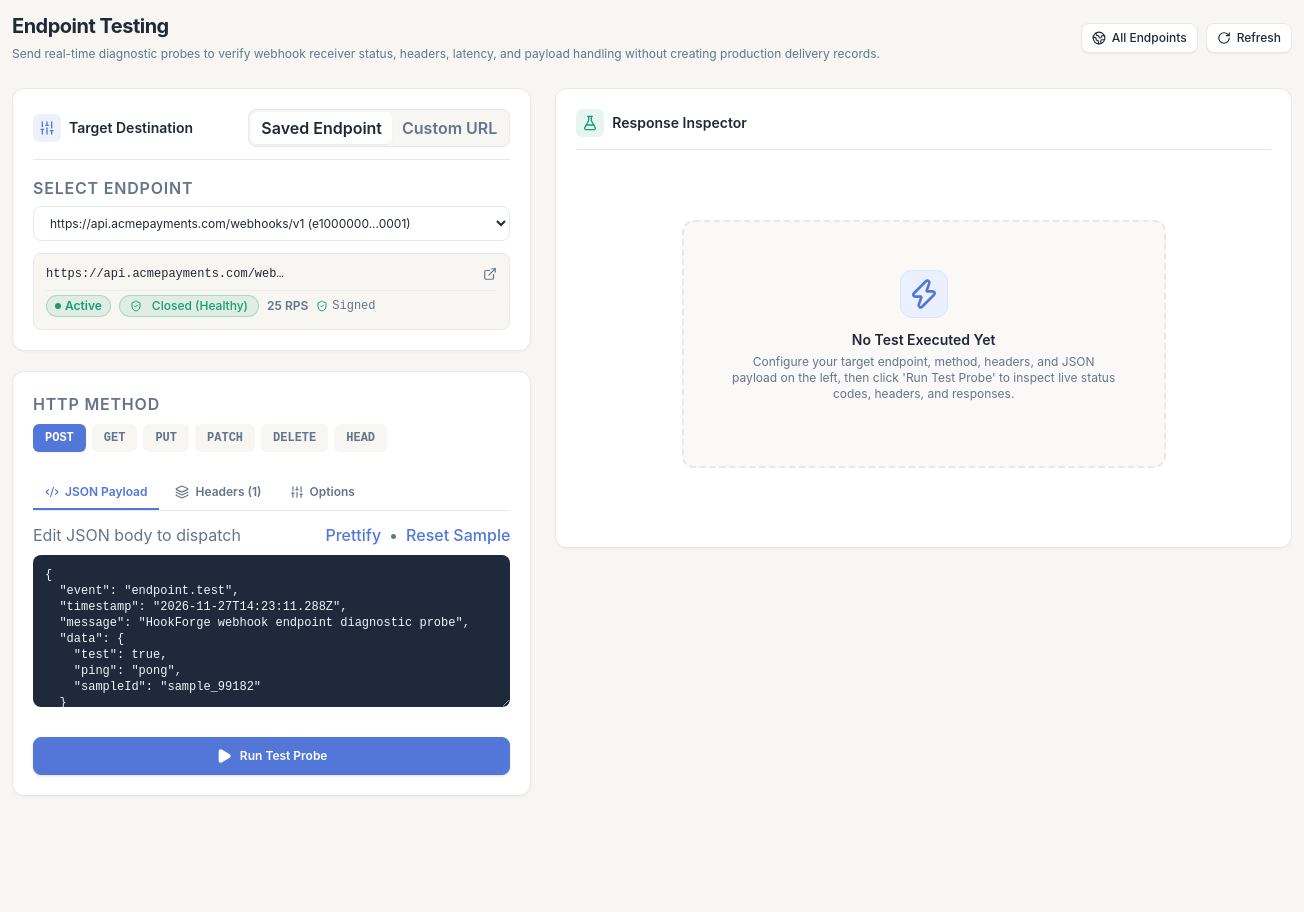
Test case: Phase 2, Task 2: Endpoint Testing (Frontend) › 3. EndpointTestingPage Component › executes successful test probe and displays HTTP 200, latency, and response tabs
Expected: the text "Active" is shown, [46,294,111,316]
Click the button "Run Test Probe". click: (272, 756)
box: [33,736,510,774]
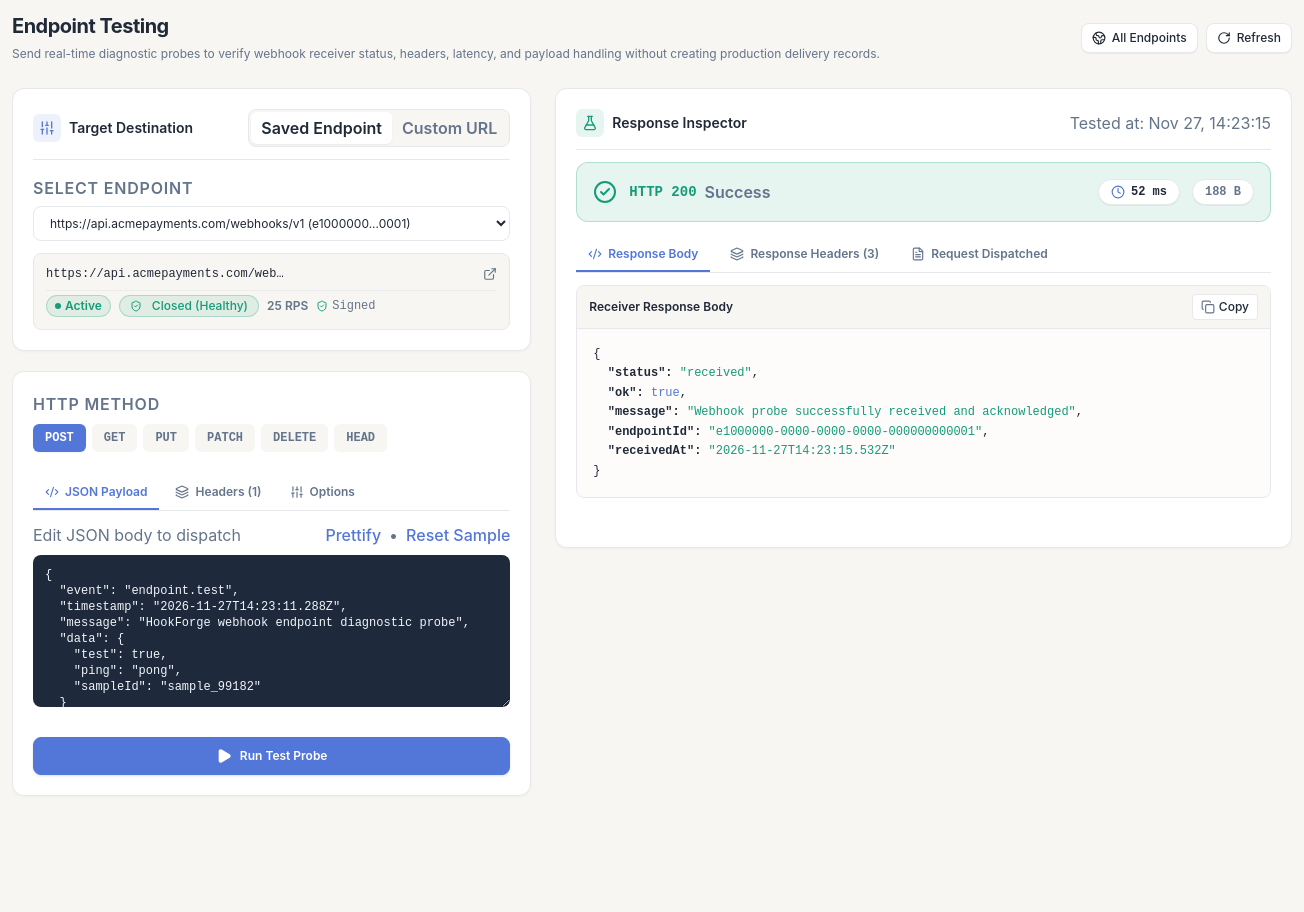
Expected: the text "HTTP 200" is shown, [629,182,696,202]
Expected: the text "Success" is shown, [704,180,770,204]
Expected: the text "Response Body" is shown, [588,246,698,262]
